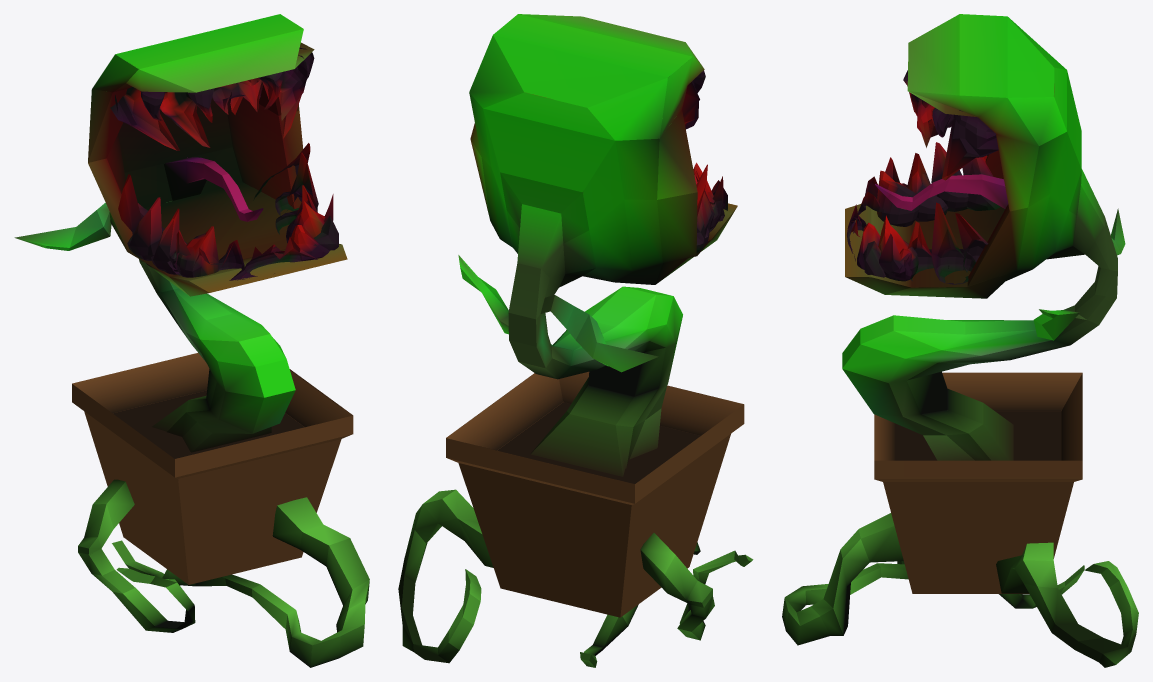
The model's file is venus fly trap final model.fbx.
3 renders of one model, left to right at view 1: azimuth 30°, elevation 25°; view 2: azimuth 150°, elevation 25°; view 3: azimuth 270°, elevation 25°, orthographic. The views are drawn at different scales.
Parts seen in each view (by area): view 1: body, pot, teeth bottom row, vine front, teeth top row, vine left; view 2: body, pot, vine right back, vine left, teeth bottom row, vine front, teeth top row; view 3: body, pot, teeth bottom row, vine front, vine right back, teeth top row.
Part boxes in pixels (x1=…): body: x1=14, y1=14, x2=347, y2=452; pot: x1=72, y1=353, x2=353, y2=584; teeth bottom row: x1=118, y1=143, x2=338, y2=280; vine front: x1=112, y1=497, x2=369, y2=667; teeth top row: x1=110, y1=47, x2=314, y2=150; vine left: x1=78, y1=479, x2=195, y2=632; body: x1=458, y1=14, x2=737, y2=476; pot: x1=446, y1=371, x2=744, y2=617; vine right back: x1=398, y1=489, x2=493, y2=663; vine left: x1=640, y1=533, x2=753, y2=640; teeth bottom row: x1=693, y1=162, x2=727, y2=252; vine front: x1=580, y1=542, x2=700, y2=667; teeth top row: x1=682, y1=70, x2=705, y2=129; body: x1=842, y1=14, x2=1125, y2=460; pot: x1=874, y1=372, x2=1082, y2=593; teeth bottom row: x1=847, y1=142, x2=1000, y2=284; vine front: x1=782, y1=513, x2=1084, y2=645; vine right back: x1=996, y1=542, x2=1138, y2=667; teeth top row: x1=903, y1=70, x2=998, y2=180.
Size of the model in its own units: 864 by 1691 by 972.
7 materials, 7 textured.
